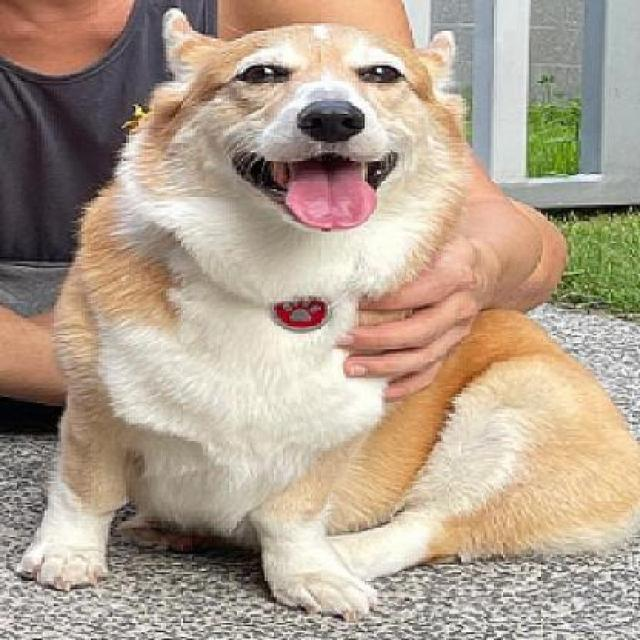Dog: (12, 5, 638, 623)
